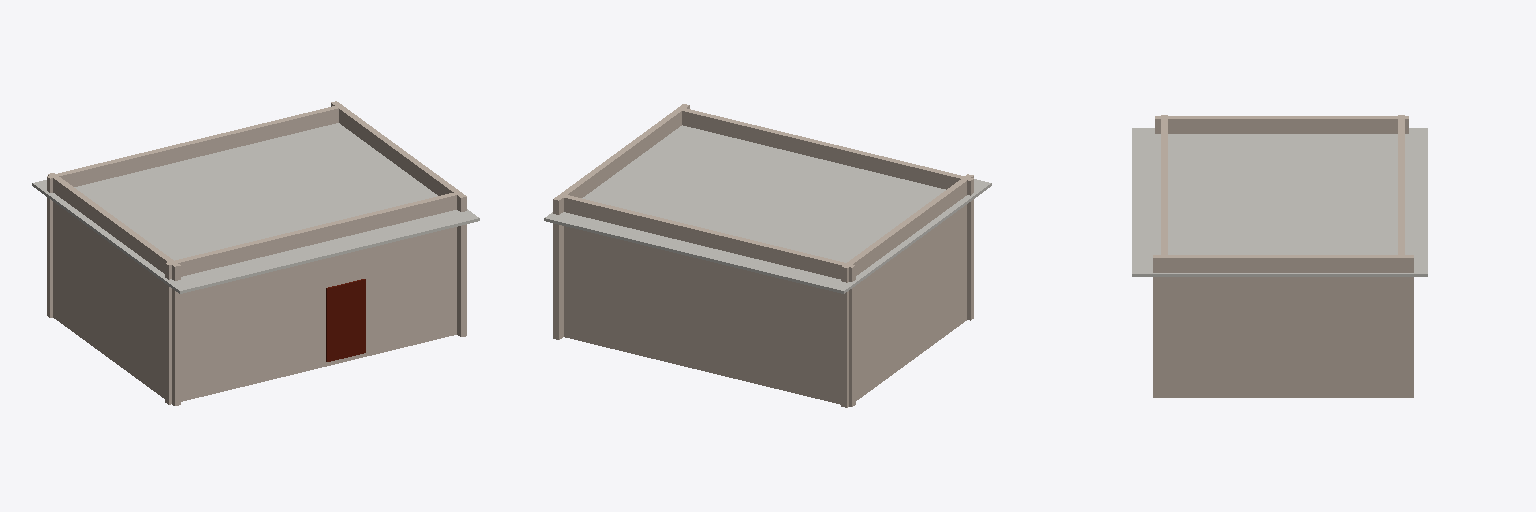
File: insidethehouse.obj
3 views of the same model, side by side, from view 1: azimuth 30°, elevation 25°; view 2: azimuth 150°, elevation 25°; view 3: azimuth 270°, elevation 25° (orthographic).
Parts seen in each view (by area): view 1: Cube_Cube.019, Cube.006_Cube.023, Cube.004_Cube.021, Cube.003_Cube.020, Cube.005_Cube.022, Cube.001_Cube.024; view 2: Cube.003_Cube.020, Cube.006_Cube.023, Cube.004_Cube.021, Cube_Cube.019, Cube.005_Cube.022; view 3: Cube.005_Cube.022, Cube.006_Cube.023, Cube.004_Cube.021, Cube.003_Cube.020, Cube_Cube.019.
Part boxes in pixels (x1,y1,x2,y2): Cube_Cube.019: (165,192,457,404); Cube.006_Cube.023: (32,123,479,293); Cube.004_Cube.021: (48,173,180,405); Cube.003_Cube.020: (47,105,341,317); Cube.005_Cube.022: (331,101,466,336); Cube.001_Cube.024: (326,279,365,361); Cube.003_Cube.020: (560,195,855,406); Cube.006_Cube.023: (544,125,991,293); Cube.004_Cube.021: (841,174,973,407); Cube_Cube.019: (679,107,973,320); Cube.005_Cube.022: (553,104,689,339); Cube.005_Cube.022: (1153,255,1413,397); Cube.006_Cube.023: (1132,128,1427,276); Cube.004_Cube.021: (1155,116,1408,133); Cube.003_Cube.020: (1398,115,1404,256); Cube_Cube.019: (1161,115,1167,256).
Size of the model in its own units: 14.74 by 6.56 by 12.58.